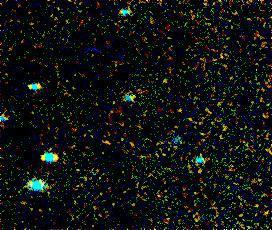star: (74, 36, 104, 66)
